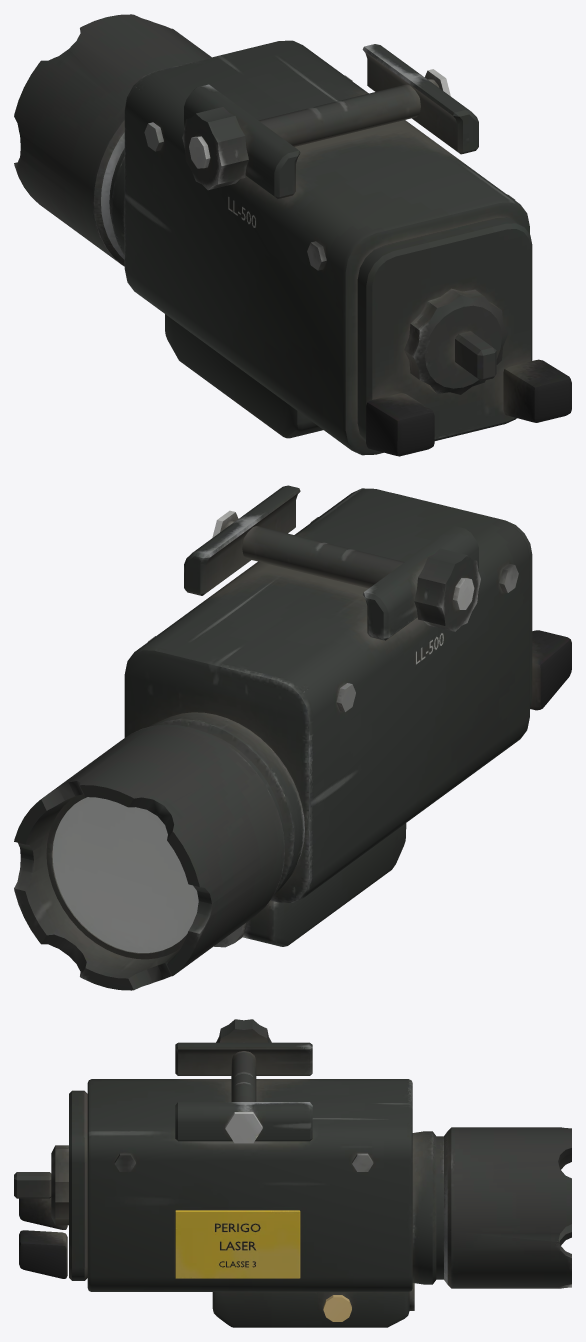
Rendered from combo_lanterna_laser.glb.
The picture shows the model from 3 angles, top to bottom: view 1: azimuth 30°, elevation 25°; view 2: azimuth 150°, elevation 25°; view 3: azimuth 270°, elevation 25°; orthographic projection. The views are drawn at different scales.
Parts seen in each view (by area): view 1: combo_lanterna_laser_corpo; view 2: combo_lanterna_laser_corpo; view 3: combo_lanterna_laser_corpo.
Part boxes in pixels (<box>): combo_lanterna_laser_corpo: <box>14,14,571,456</box>; combo_lanterna_laser_corpo: <box>14,485,571,990</box>; combo_lanterna_laser_corpo: <box>14,1019,571,1327</box>.
Size of the model in its own units: 0.0327 by 0.0441 by 0.0893.
4 materials, 1 textured.
